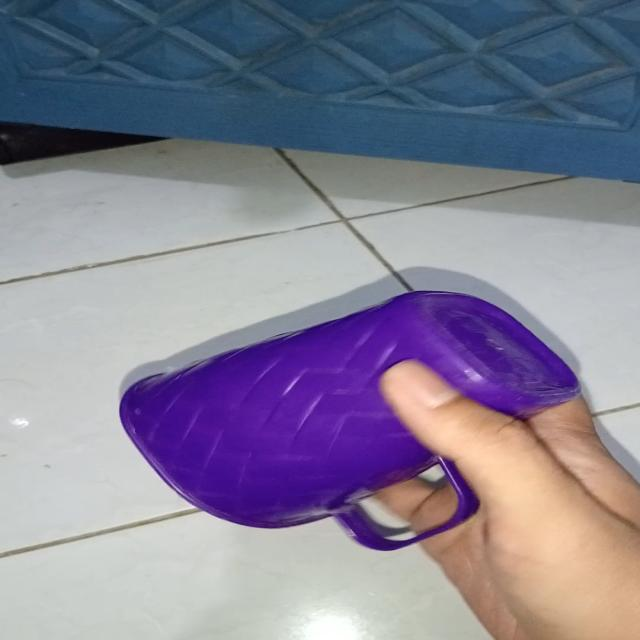gelas bekas: (117, 288, 584, 552)
